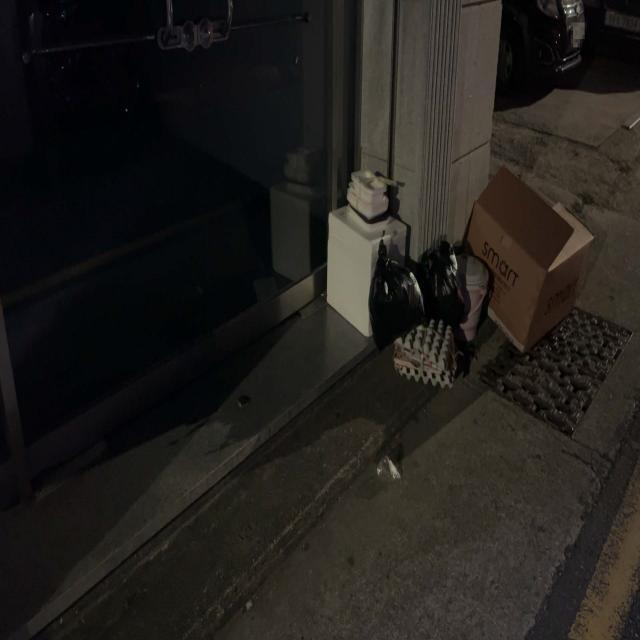Kardus: (459, 164, 596, 353)
